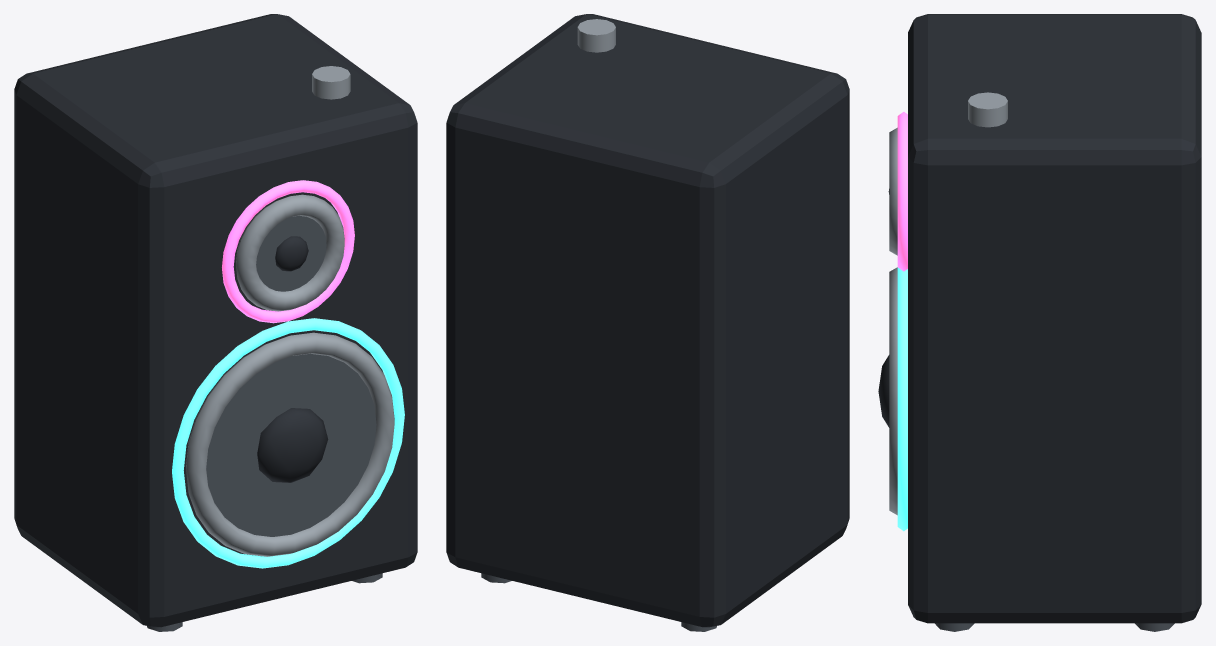
File: caixa-som.glb
3 views of the same model, side by side, from view 1: azimuth 30°, elevation 25°; view 2: azimuth 150°, elevation 25°; view 3: azimuth 270°, elevation 25° (orthographic). The views are drawn at different scales.
Parts seen in each view (by area): view 1: caixa-som; view 2: caixa-som; view 3: caixa-som.
Boxes of the visible parts, x1,y1,x2,y2 form: caixa-som: [14, 14, 417, 631]; caixa-som: [446, 14, 849, 631]; caixa-som: [878, 14, 1201, 631].
Bounding box in the file's own units: 0.5 × 0.85 × 0.4841.
